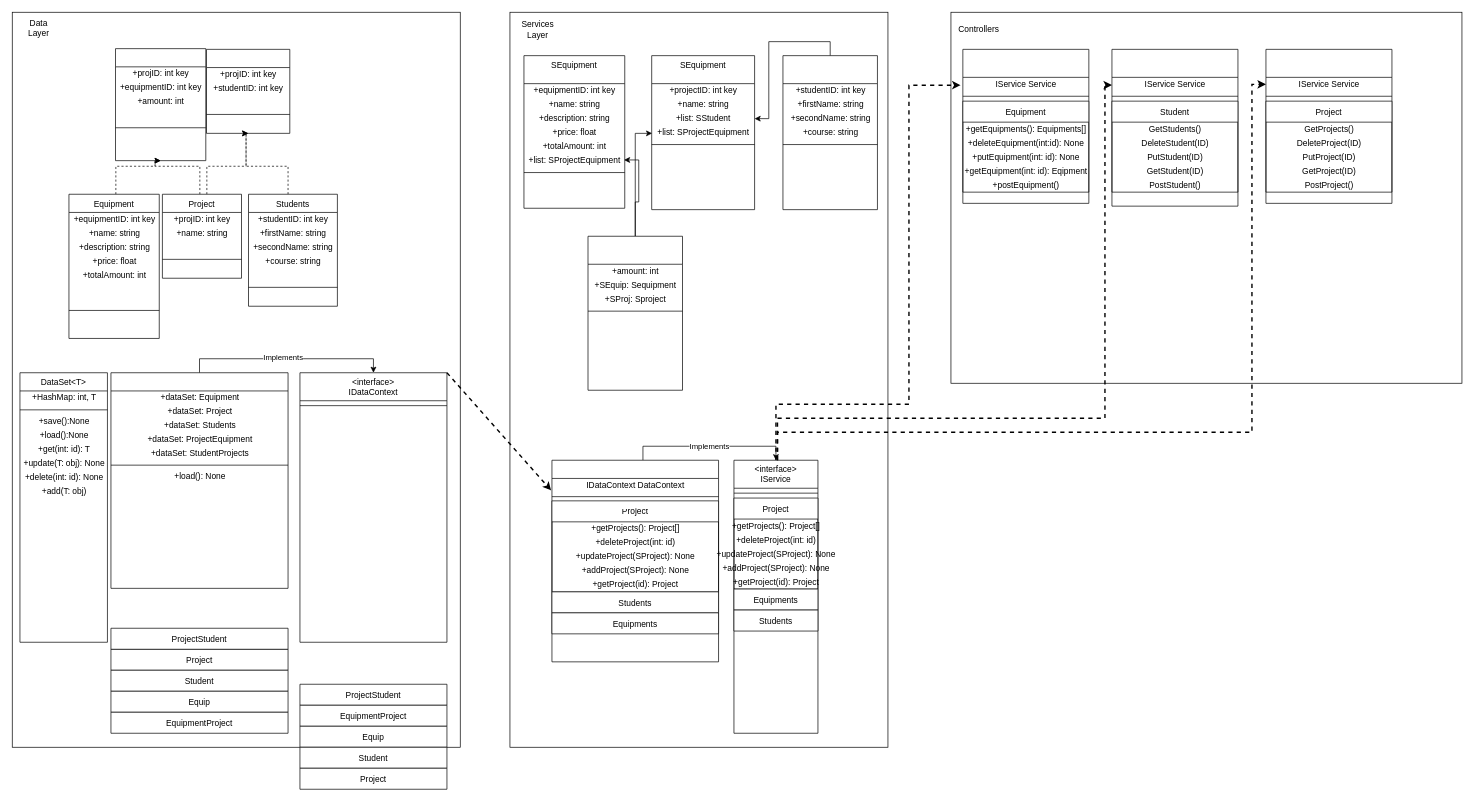
The diagram is 1474 pixels wide and 802 high, and some of its shapes have lost their labels. The box of each missing label's shape, as (x1, y1, x2, y2) in pixels:
DataContext: (110, 372, 288, 588)
EquipmentController: (962, 49, 1089, 203)
ProjectController: (1265, 49, 1392, 203)
ProjectEquipment: (115, 48, 206, 161)
Service: (551, 460, 719, 662)
SProjectEquipment: (587, 236, 682, 390)
SStudent: (782, 55, 877, 210)
StudentController: (1111, 49, 1238, 206)
StudentProjects: (206, 49, 290, 133)
